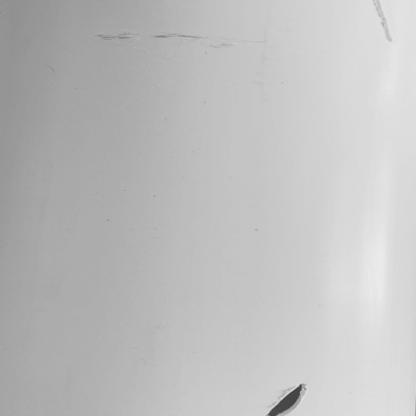kongdong: (266, 386, 310, 416)
sunshang: (93, 33, 226, 53), (367, 1, 391, 42)
